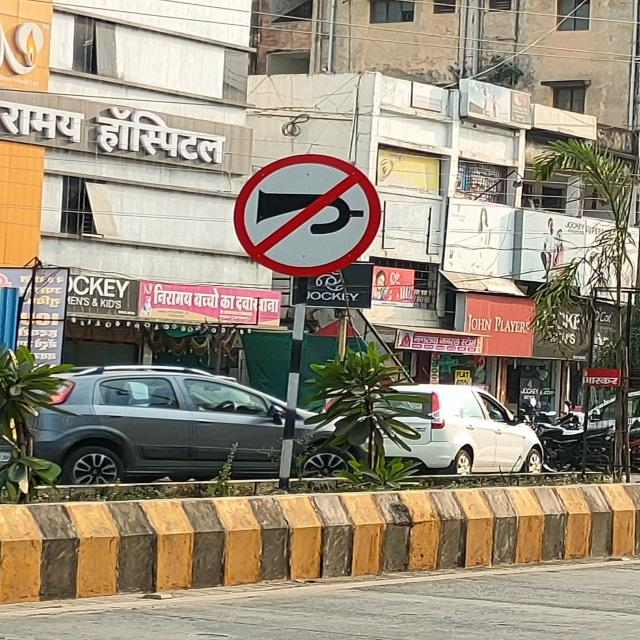HORN_PROHIBITED: (238, 150, 378, 280)
